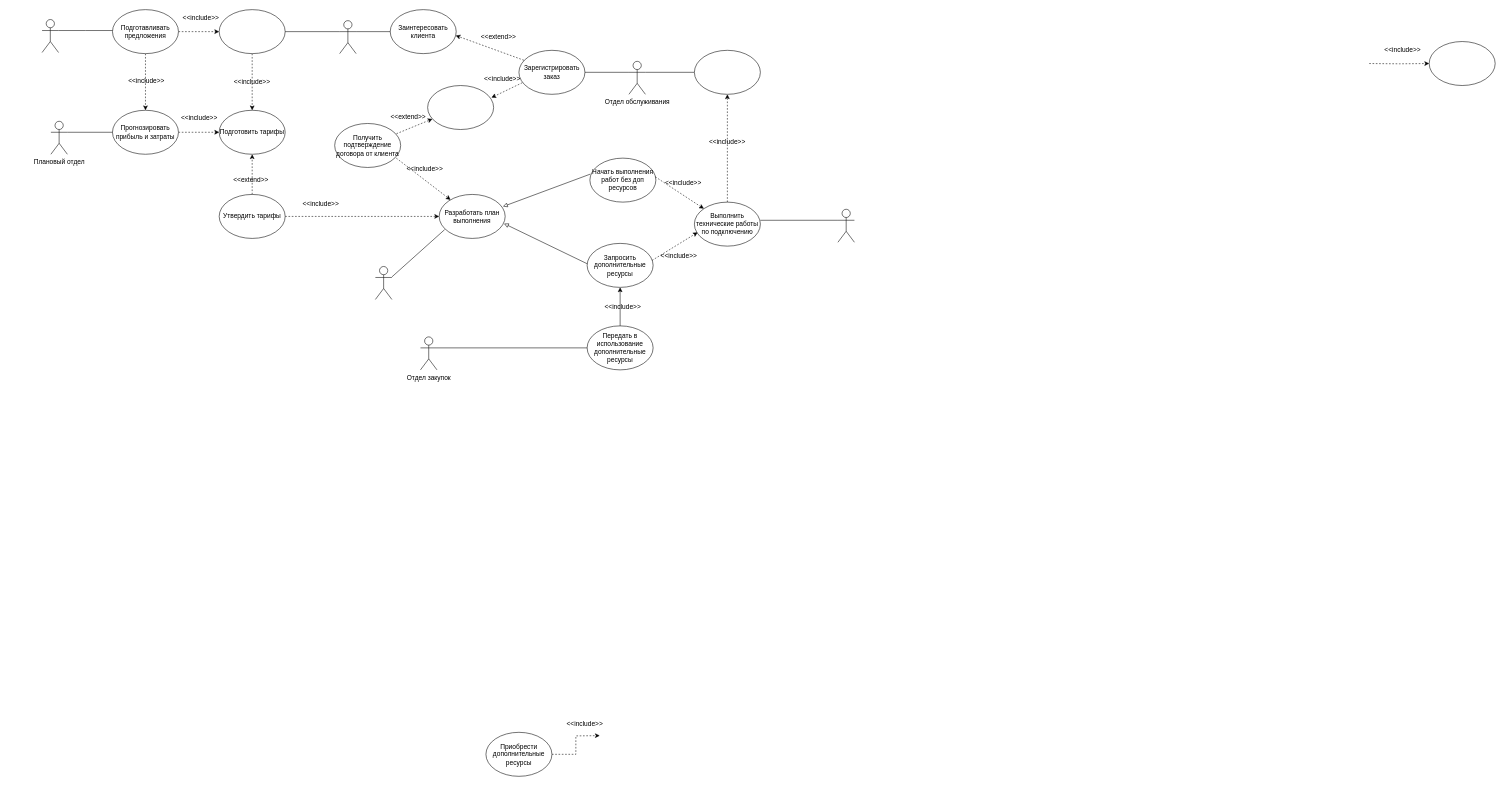
The diagram is 1505 pixels wide and 786 high, and some of its shapes have lost their labels. The shapes that lost their labels are listed below. From the top down, each one's centre as x and y in pixels, then its label:
point 50,36: Отдел планового развития
point 252,31: Предоставить данные о спросе и рынка
point 347,37: Коммерческий отдел
point 727,72: Уведомить клиента о завершении услуг
point 1462,63: Предоставить документы о выполненных работах
point 460,107: Создать договор
point 845,225: Технический отдел
point 383,282: Производственный отдел
